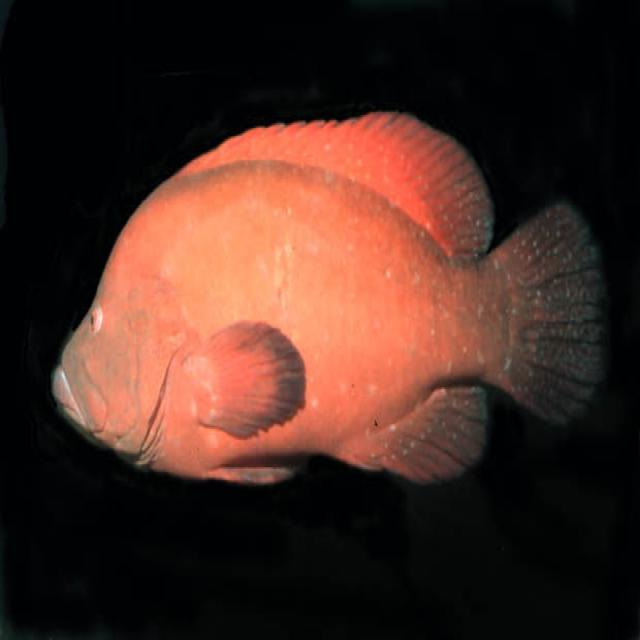ikan: (49, 106, 611, 491)
